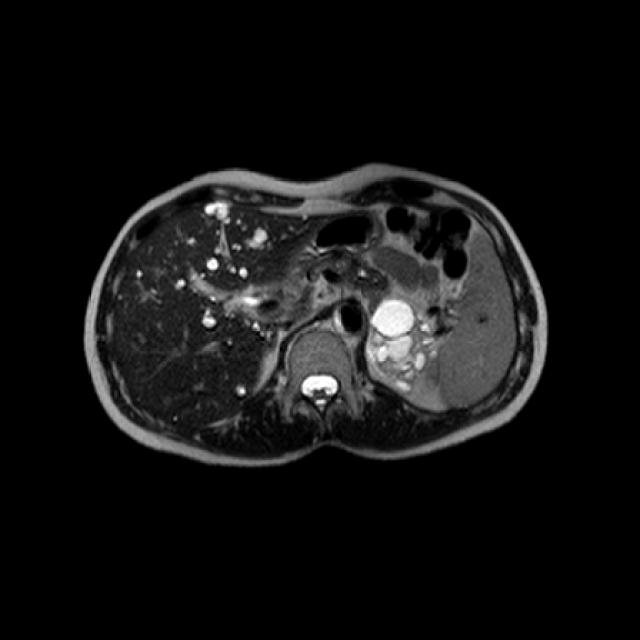sol: (367, 293, 439, 392)
